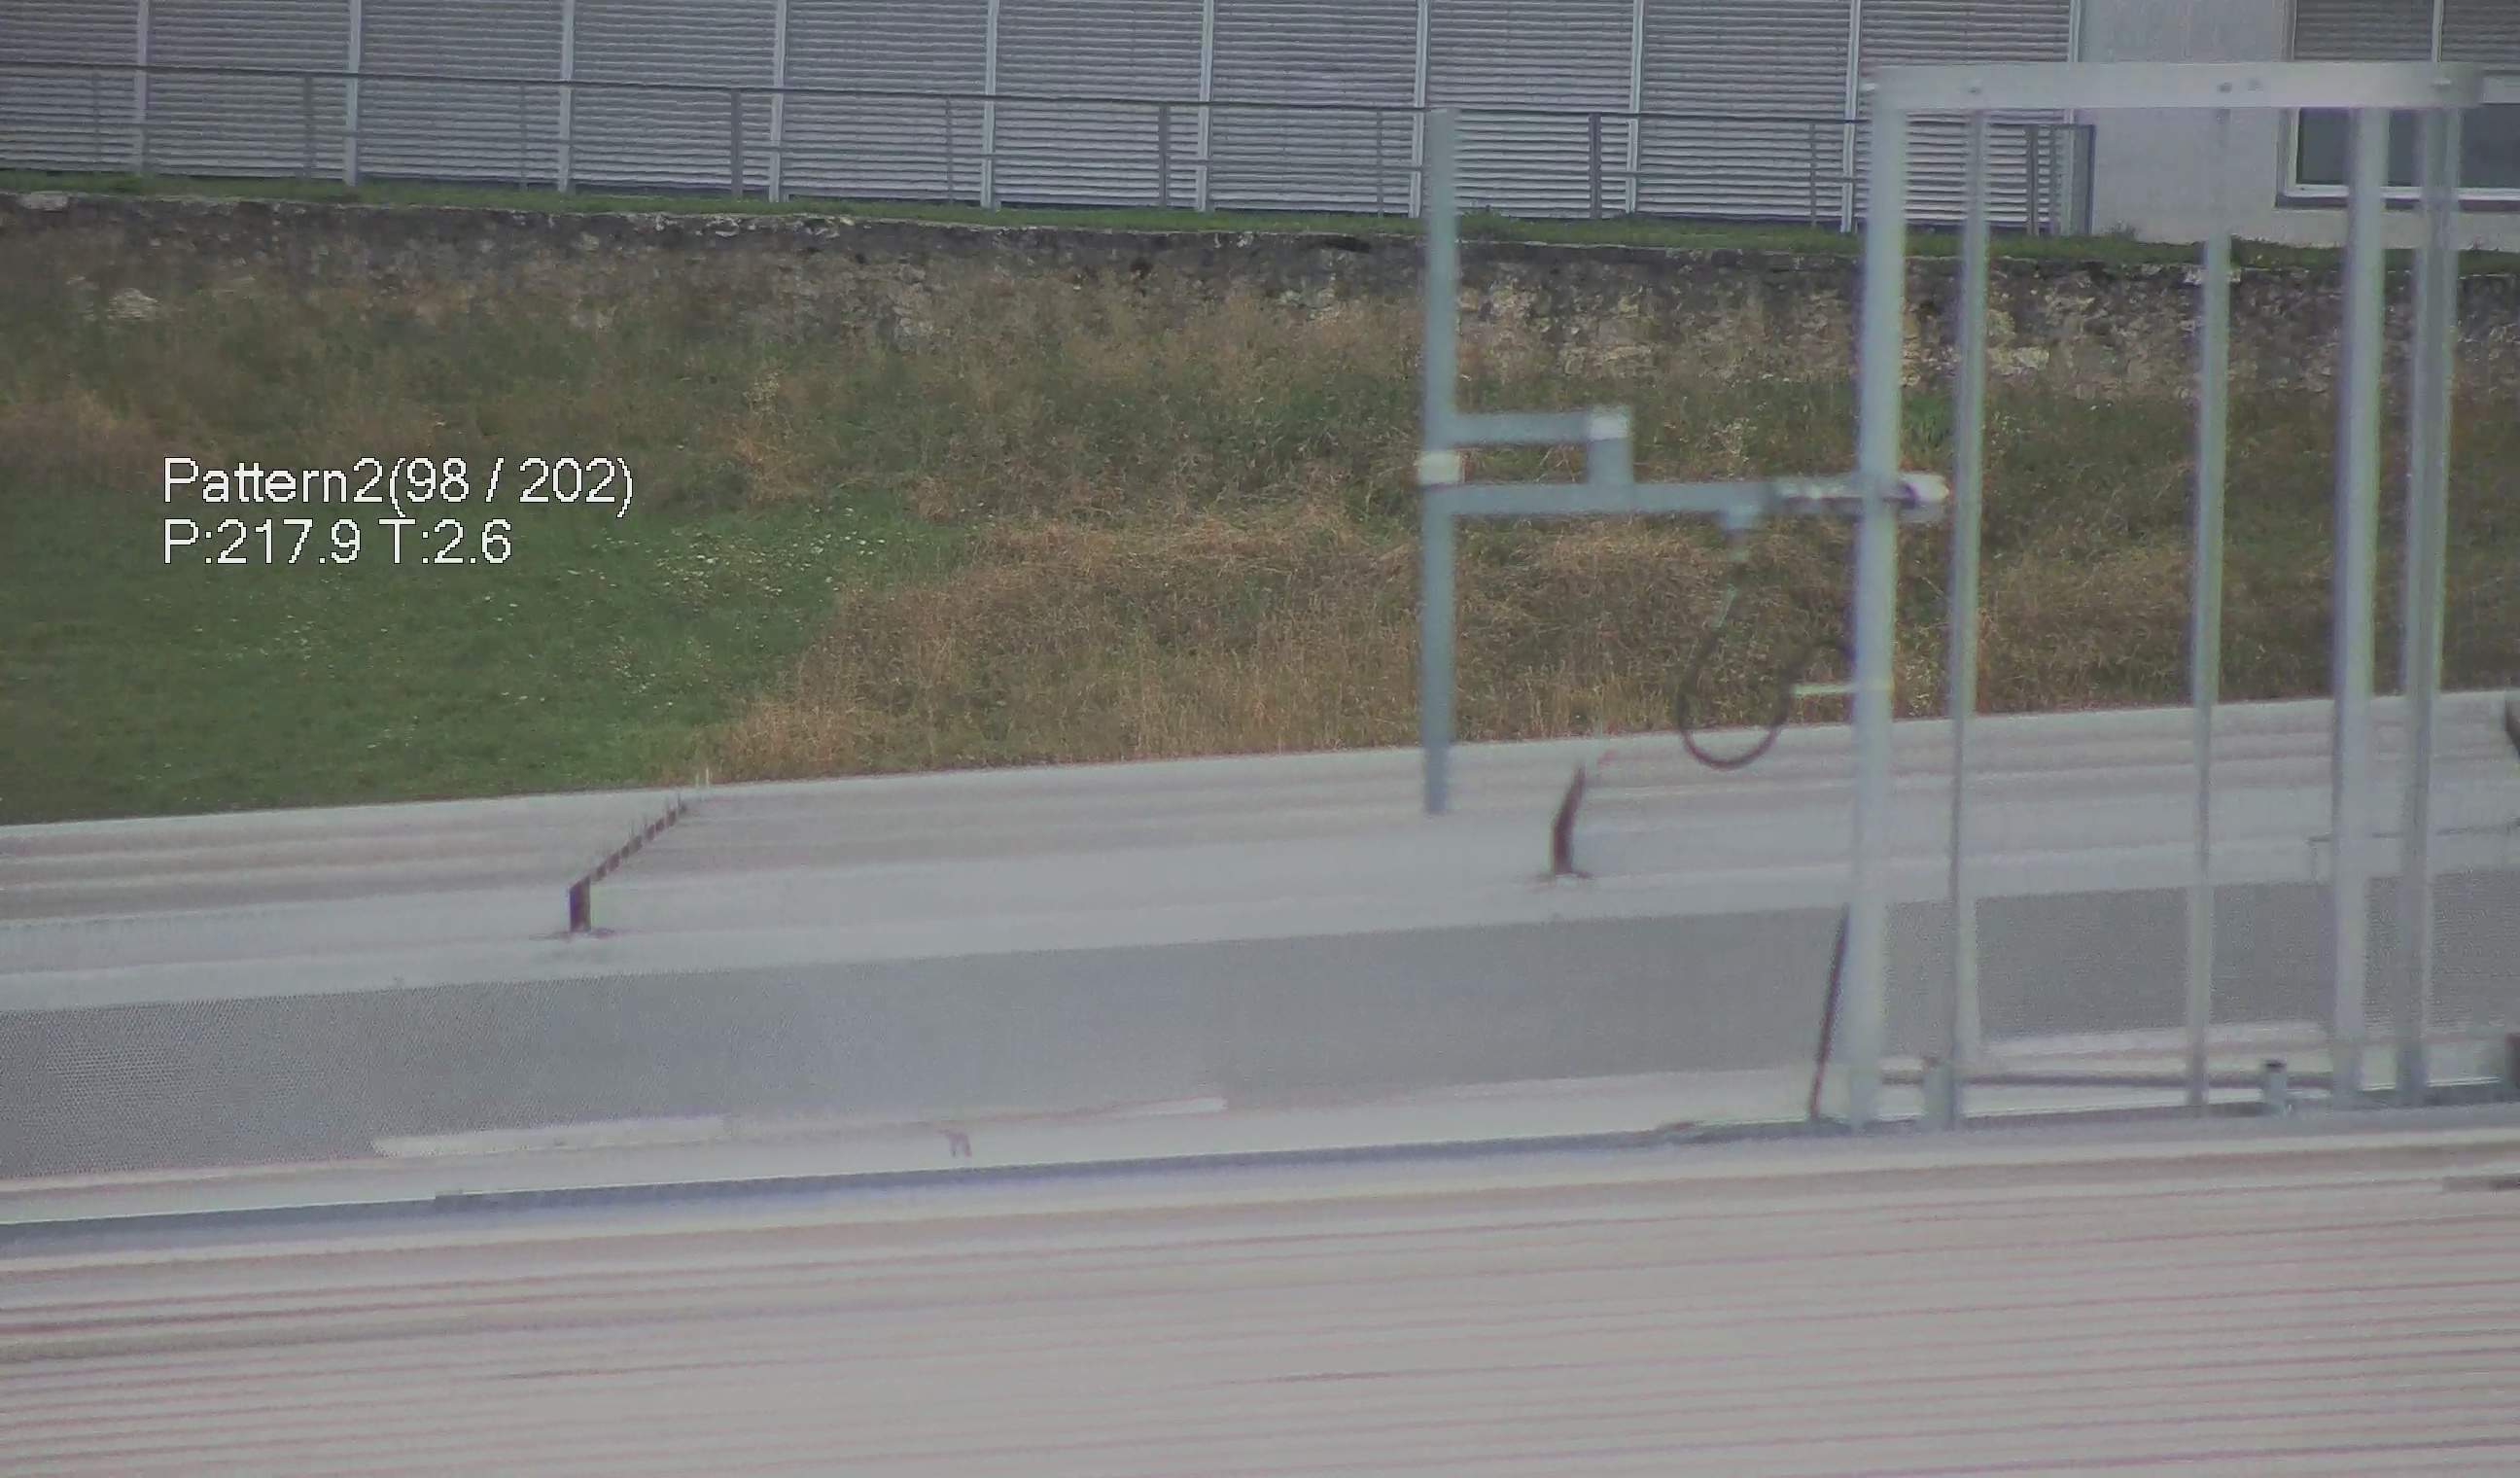Other: (1540, 739, 1613, 892)
